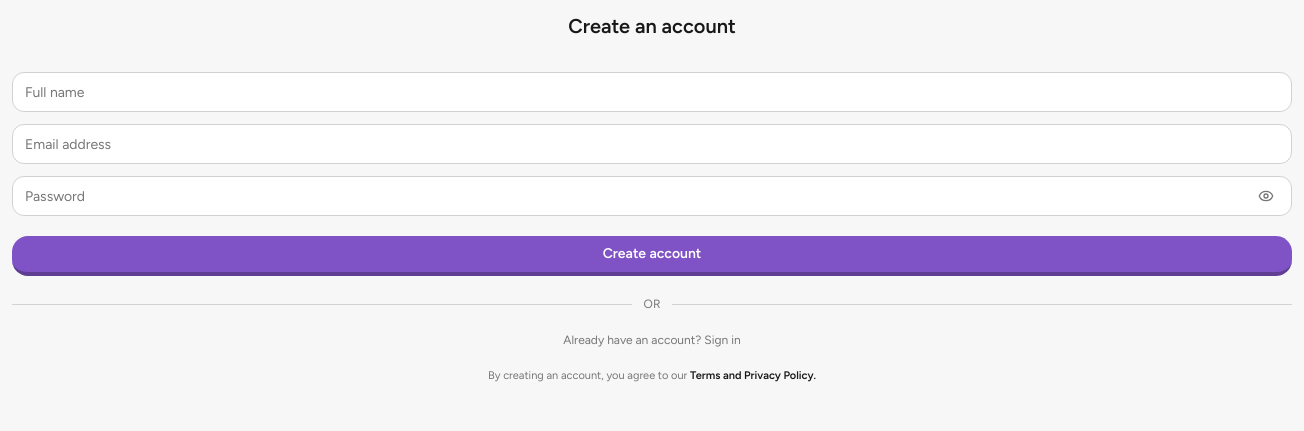
Test: SignupForm › offers to log in when the email is already registered
Type "Ada Lovelace" into the field with placeholder "Full name" at (652, 92), box [12, 72, 1292, 112]
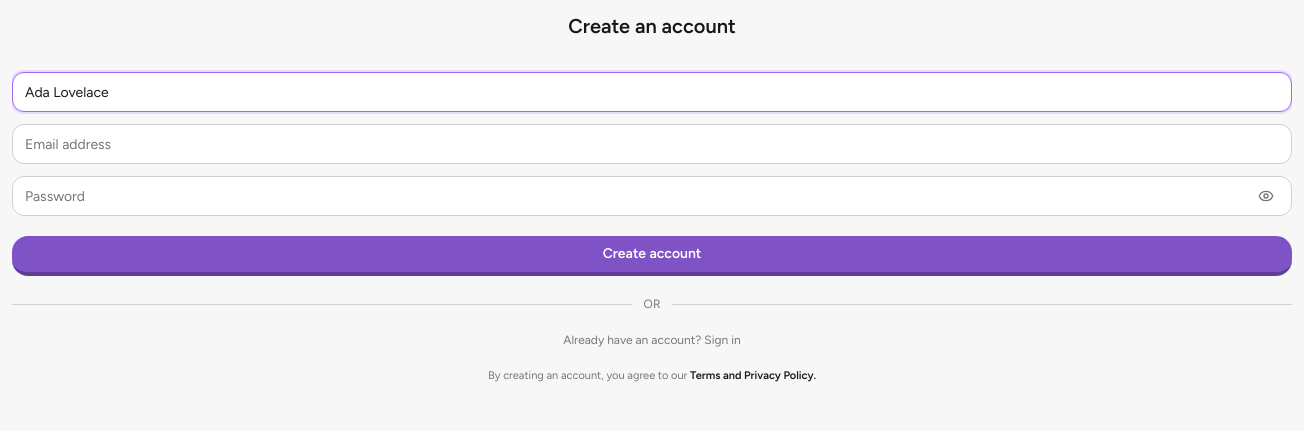
Type "ada@example.com" into the field with placeholder "Email address" at (652, 144), box [12, 124, 1292, 164]
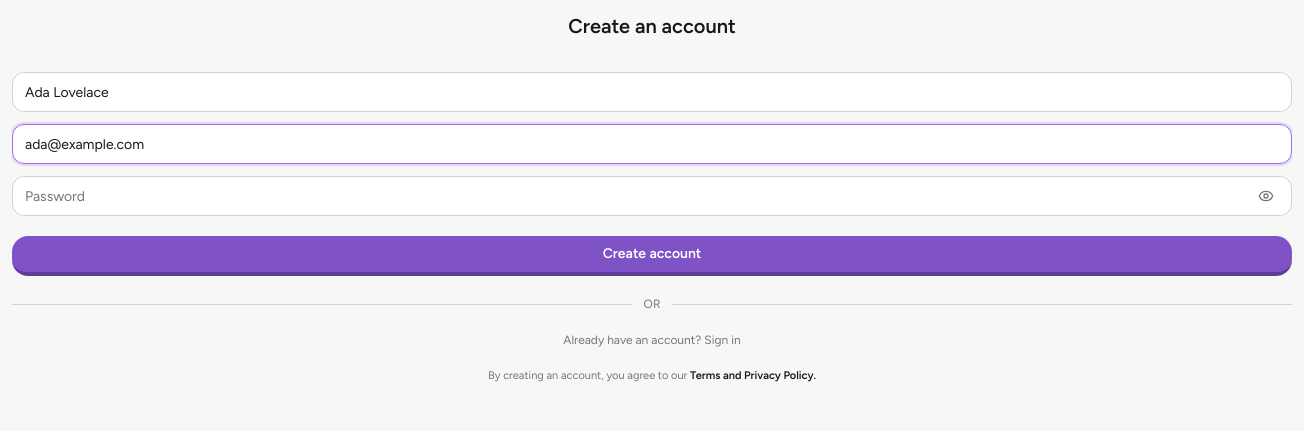
Type "password123" into the password field with placeholder "Password" at (652, 196), box [12, 176, 1292, 216]
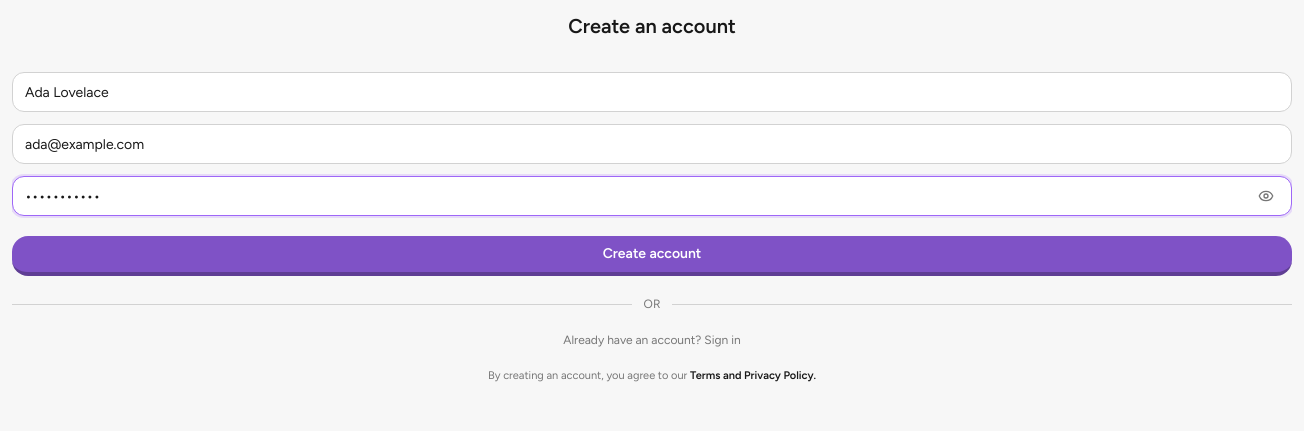
Click the button "Create account" at (652, 256), box [12, 236, 1292, 276]
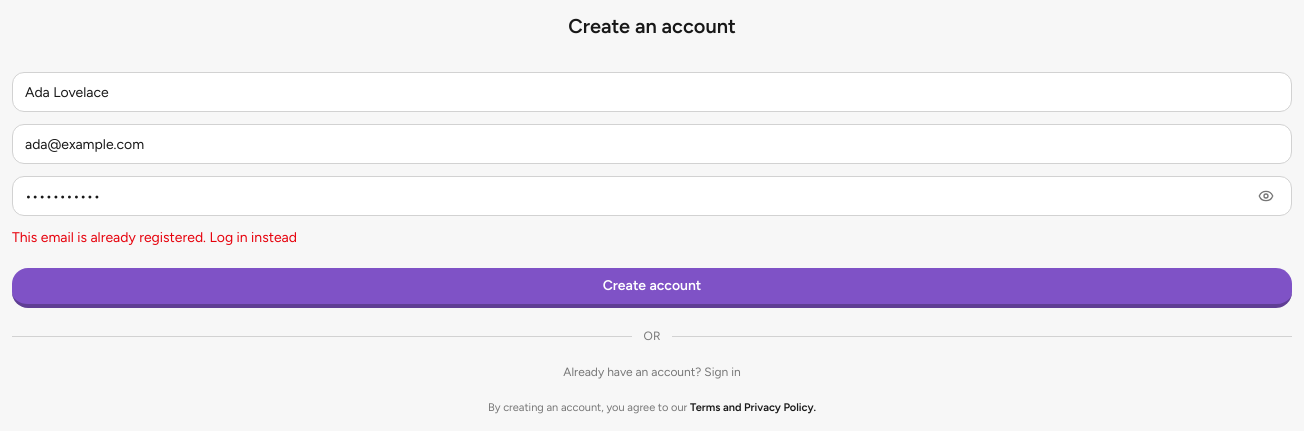
Check: the message "This email is already registered. Log in instead" is shown, box [12, 229, 297, 246]
Check: the link "Log in instead" is shown, box [210, 229, 297, 246]
